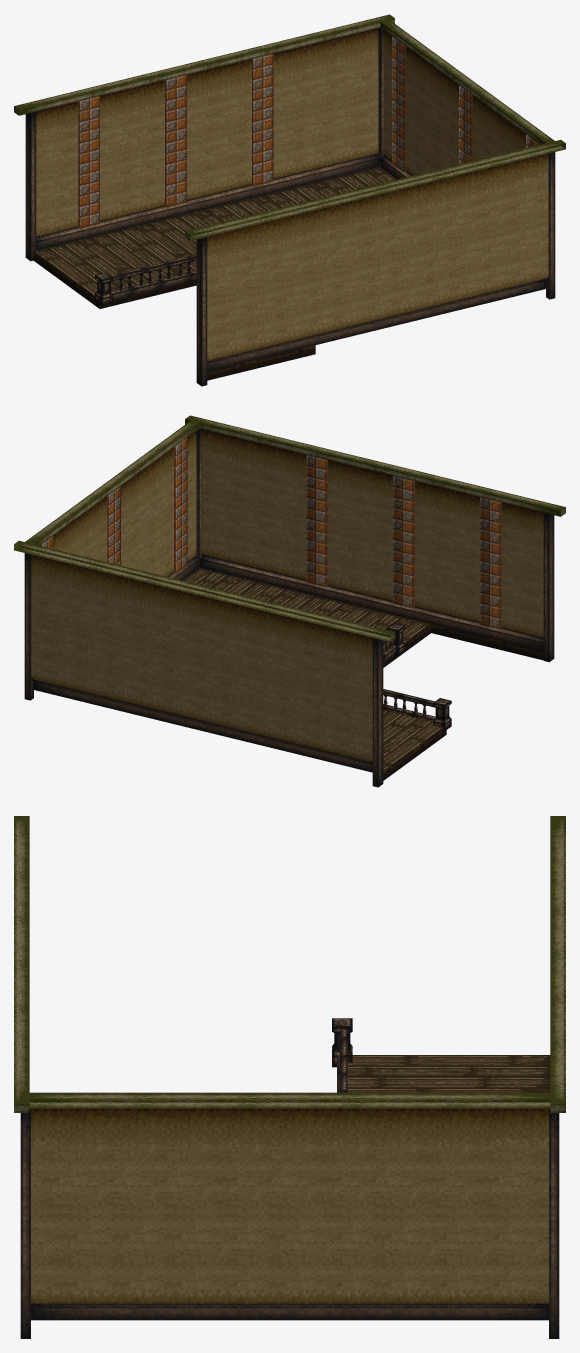
Rendered from EnvBdgMD_Sea_A_Indoor_Shop_Weapon_A.FBX.
3 renders of one model, top to bottom at view 1: azimuth 30°, elevation 25°; view 2: azimuth 150°, elevation 25°; view 3: azimuth 270°, elevation 25°, orthographic. The views are drawn at different scales.
Parts seen in each view (by area): view 1: EnvBdgMD_Sea_A_Indoor_Shop_Weapon_A; view 2: EnvBdgMD_Sea_A_Indoor_Shop_Weapon_A; view 3: EnvBdgMD_Sea_A_Indoor_Shop_Weapon_A.
Boxes of the visible parts, x1,y1,x2,y2 form: EnvBdgMD_Sea_A_Indoor_Shop_Weapon_A: (14, 14, 565, 386); EnvBdgMD_Sea_A_Indoor_Shop_Weapon_A: (14, 415, 565, 787); EnvBdgMD_Sea_A_Indoor_Shop_Weapon_A: (14, 816, 565, 1338).
Size of the model in its own units: 1300 by 510 by 1055.
Materials: 1 (1 with a texture image).
